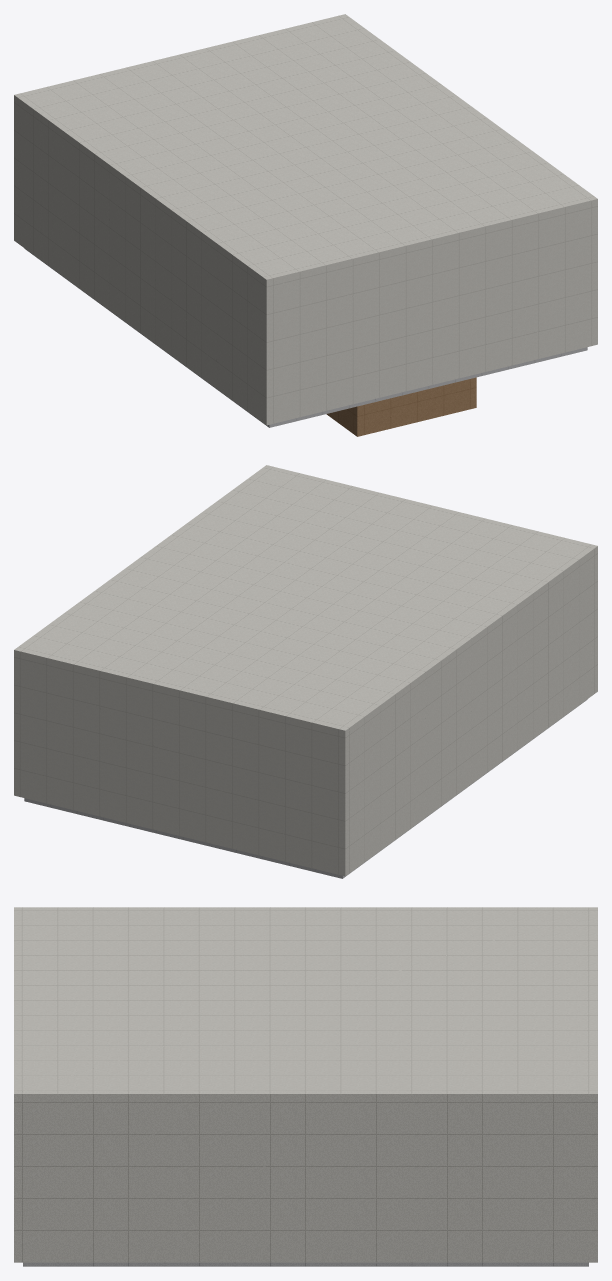
The model's file is worldspawn.glb.
3 renders of one model, top to bottom at view 1: azimuth 30°, elevation 25°; view 2: azimuth 150°, elevation 25°; view 3: azimuth 270°, elevation 25°, orthographic. The views are drawn at different scales.
Parts seen in each view (by area): view 1: worldspawn; view 2: worldspawn; view 3: worldspawn.
Part boxes in pixels (x1,y1,x2,y2): worldspawn: (14, 14, 597, 436); worldspawn: (14, 465, 597, 878); worldspawn: (14, 907, 597, 1266).
Bounding box in the file's own units: 25 × 14 × 33.
8 materials, 8 textured.
